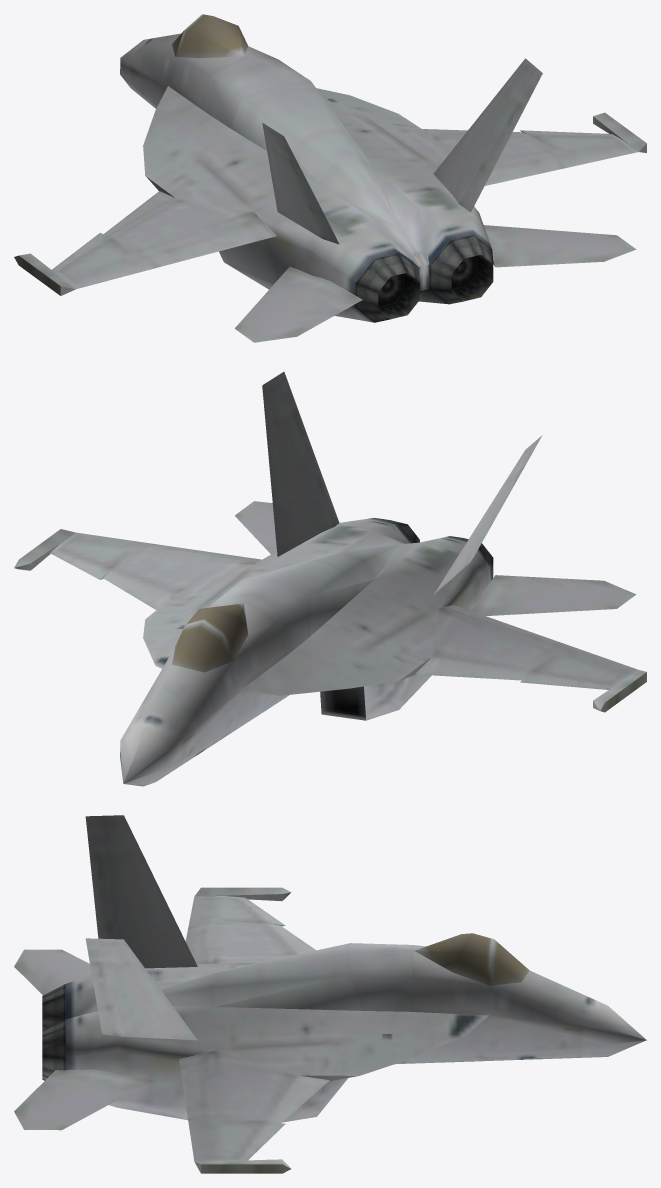
File: ea02.ico.obj
The picture shows the model from 3 angles, top to bottom: view 1: azimuth 30°, elevation 25°; view 2: azimuth 150°, elevation 25°; view 3: azimuth 270°, elevation 25°; orthographic projection. The views are drawn at different scales.
Size of the model in its own units: 4.45 by 1.61 by 4.31.
Materials: 1 (1 with a texture image).
